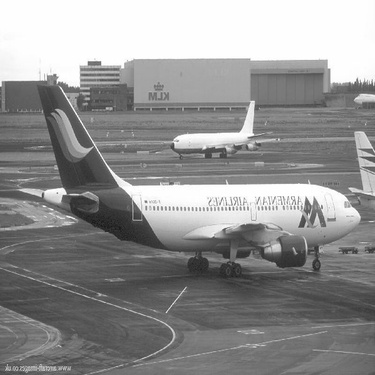airplane: (12, 75, 362, 281), (157, 95, 283, 162), (344, 121, 373, 213), (345, 82, 374, 112)
